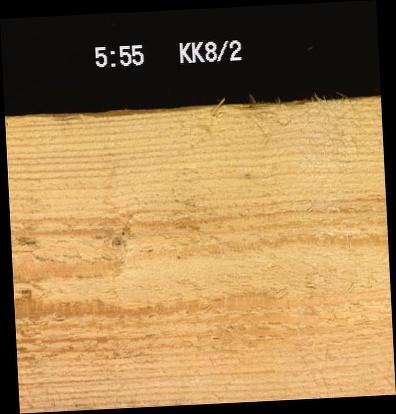small_knot: (108, 232, 123, 247)
wave: (49, 102, 327, 118)
